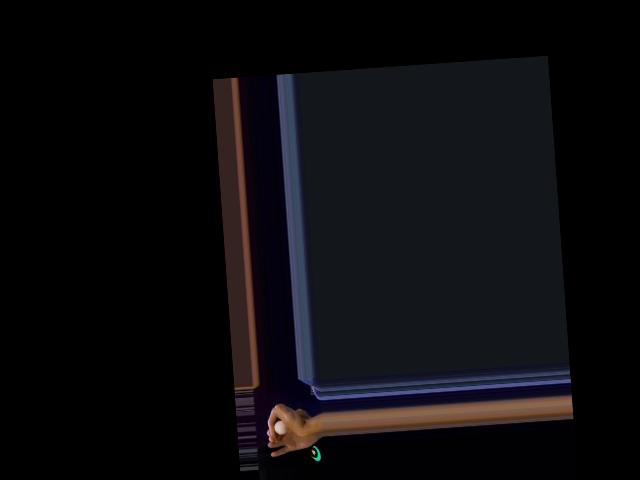egg: (273, 419, 285, 435)
